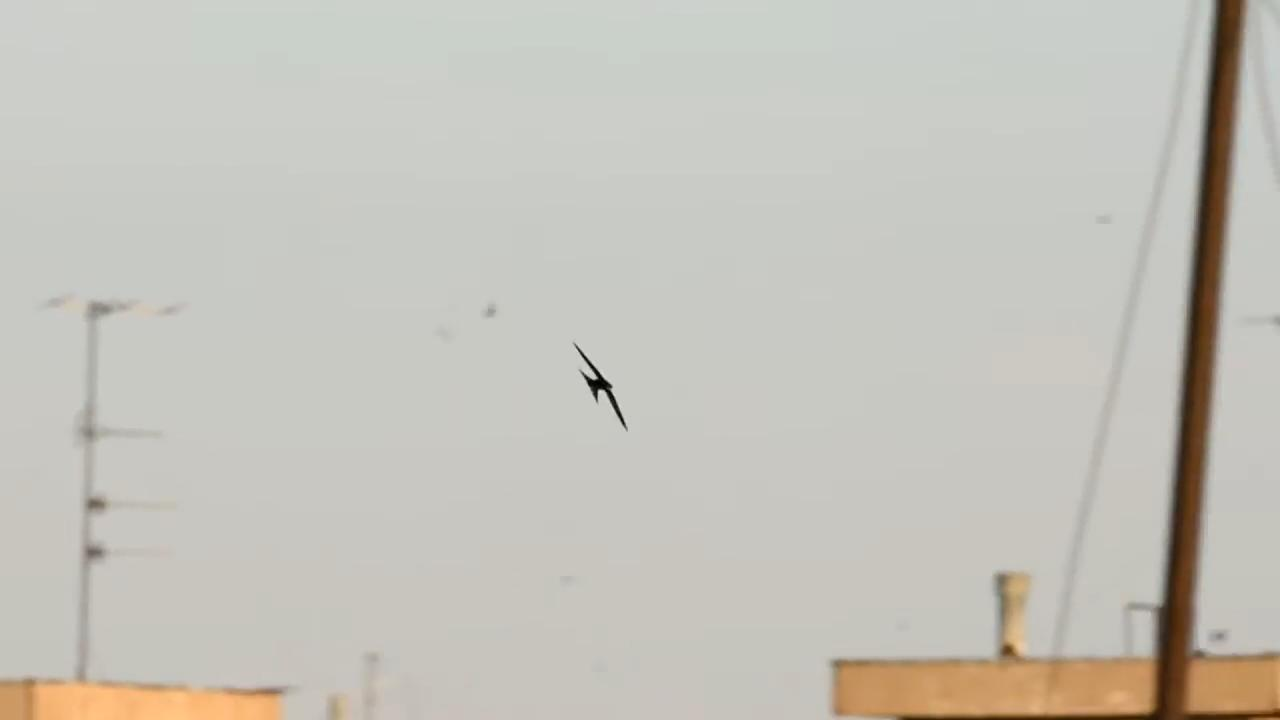Bird: (558, 330, 638, 442)
